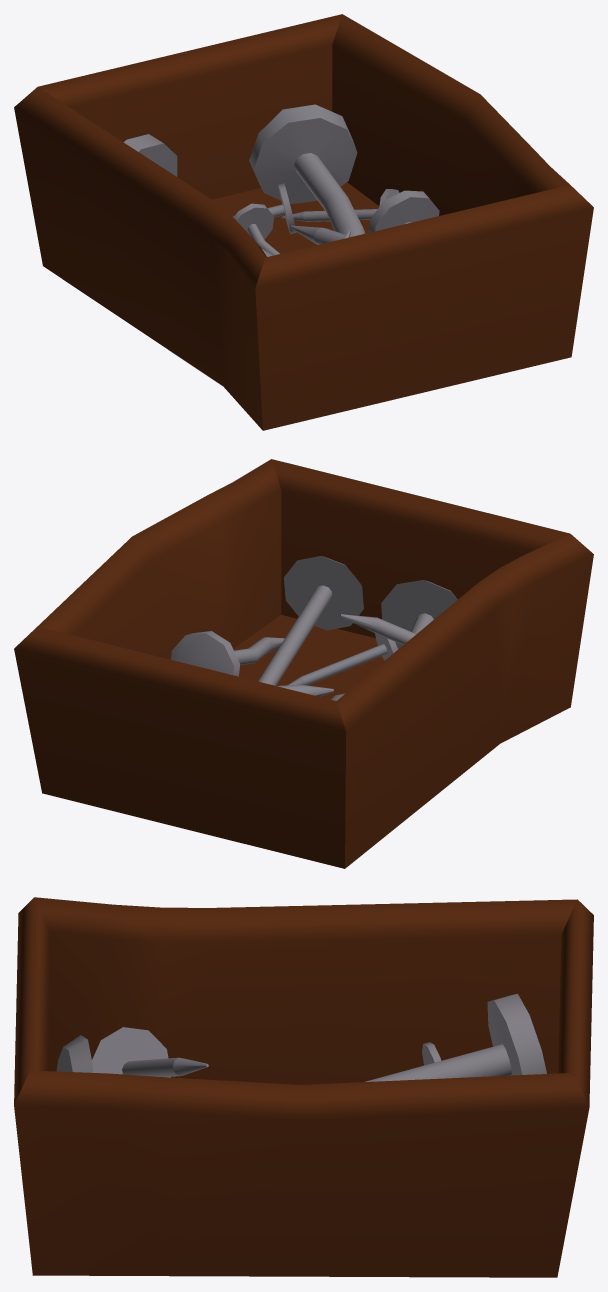
Rendered from Box_of_nails.fbx.
3 renders of one model, top to bottom at view 1: azimuth 30°, elevation 25°; view 2: azimuth 150°, elevation 25°; view 3: azimuth 270°, elevation 25°, orthographic. The views are drawn at different scales.
Visible parts, largest first — view 1: Box_of_nails; view 2: Box_of_nails; view 3: Box_of_nails.
Boxes of the visible parts, <box> form: Box_of_nails: <box>14,14,593,430</box>; Box_of_nails: <box>14,459,593,868</box>; Box_of_nails: <box>14,897,593,1277</box>.
Bounding box in the file's own units: 20.44 × 24.19 × 9.38.
